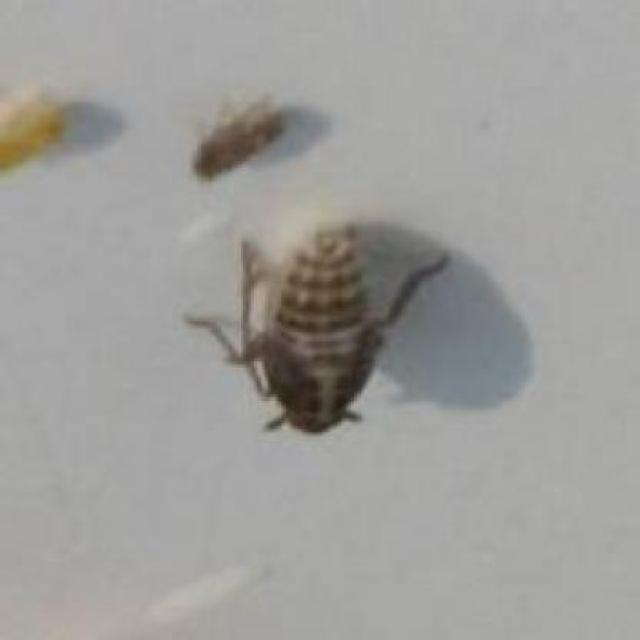brown-planthopper: (255, 219, 379, 436), (188, 91, 294, 180)
